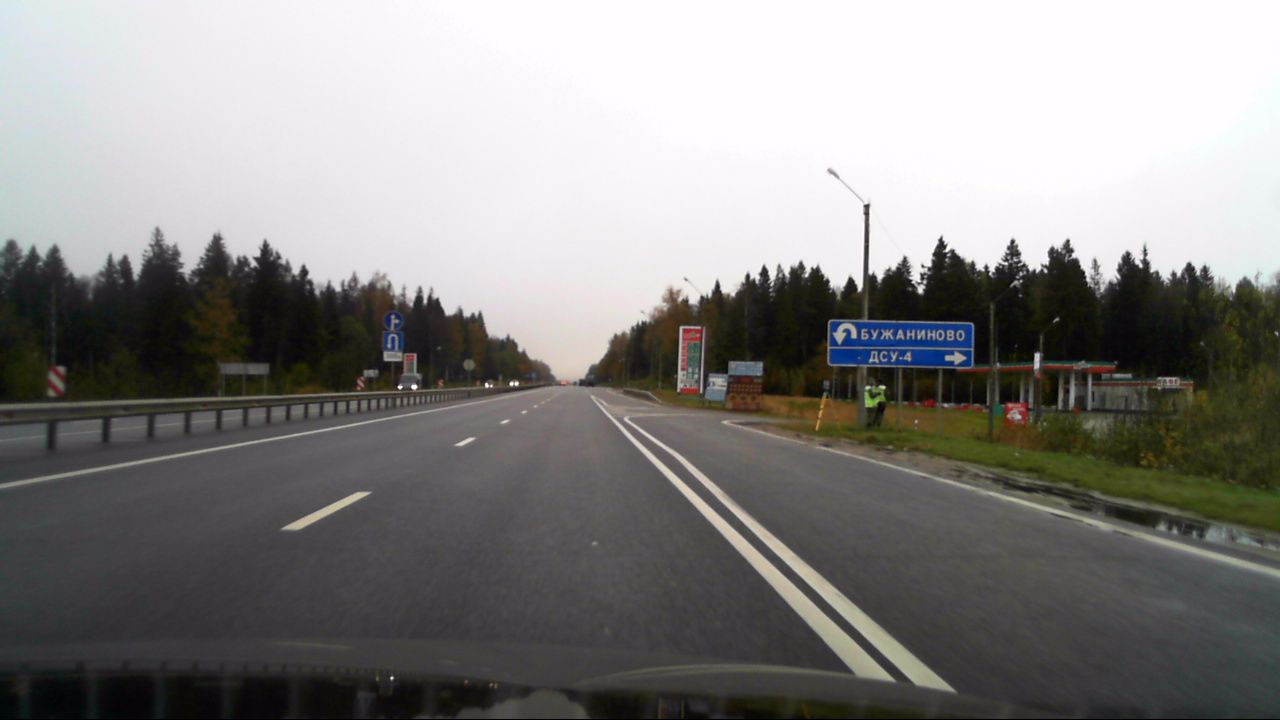U-turn: (383, 332, 402, 351)
